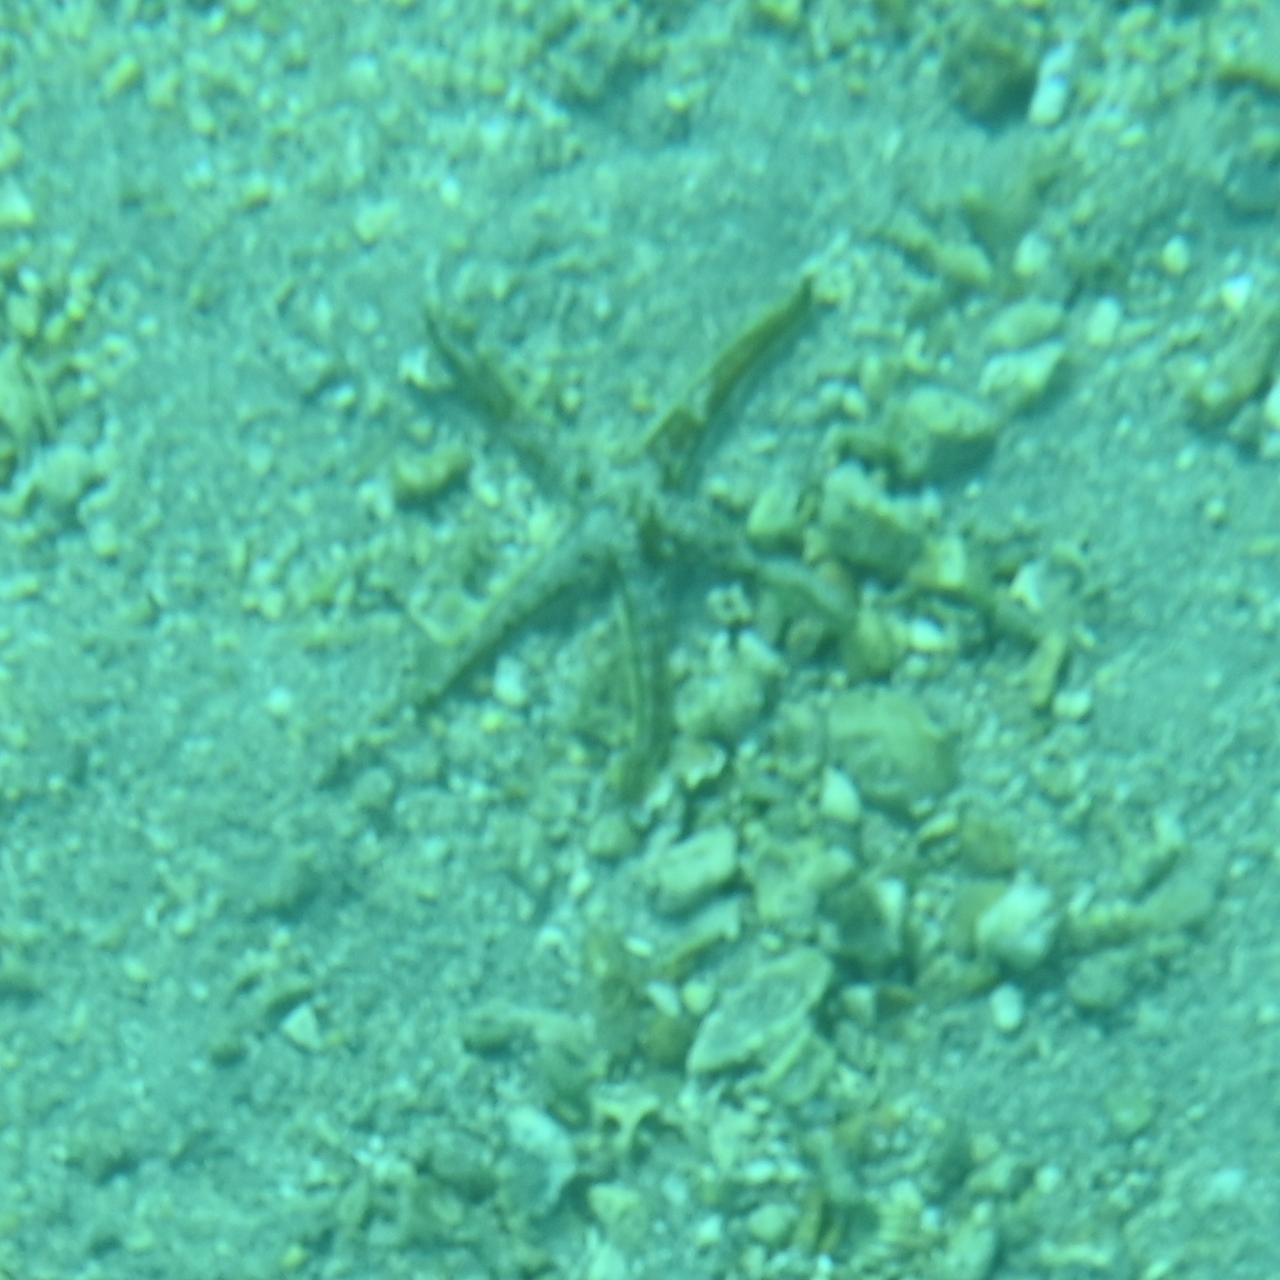Astropecten spp: (402, 275, 878, 787)
